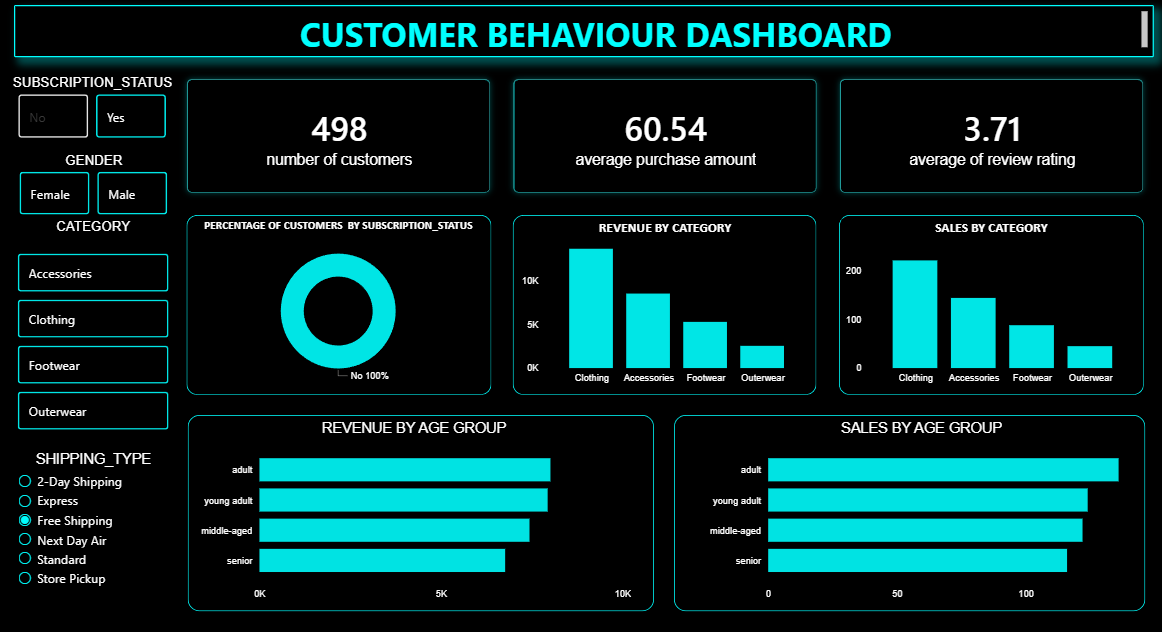

This screenshot's page, from the dashboard's own definition file:
{"tool":"powerbi","page":{"name":"Page 1","canvas":[1500,820],"ordinal":0},"visuals":[{"type":"cardVisual","fields":{"Data":["public customer.number of customers","public customer.average purchase amount","public customer.average of review rating"]},"box":[213.9,80.4,1286.5,202.6],"z":0},{"type":"textbox","box":[19.3,12.9,1466.6,67.5],"z":1000},{"type":"shape","box":[241.2,283,392.4,231.6],"z":2000},{"type":"donutChart","title":"PERCENTAGE OF CUSTOMERS  BY SUBSCRIPTION_STATUS","fields":{"Category":["public customer.subscription_status"],"Y":["CountNonNull(public customer.customer_id)"]},"box":[249.3,287.8,374.7,220.3],"z":3000},{"type":"shape","box":[660.9,283,390.8,231.6],"z":4000},{"type":"shape","box":[1080.6,283,392.4,231.6],"z":5000},{"type":"clusteredColumnChart","title":"REVENUE BY CATEGORY","fields":{"Y":["Sum(public customer.purchase_amount)"],"Category":["public customer.category"]},"box":[667.3,287.8,379.5,220.3],"z":6000},{"type":"clusteredColumnChart","title":"SALES BY CATEGORY","fields":{"Y":["CountNonNull(public customer.customer_id)"],"Category":["public customer.category"]},"box":[1083.8,287.8,385.9,220.3],"z":7000},{"type":"advancedSlicerVisual","title":"SUBSCRIPTION_STATUS","fields":{"Values":["public customer.subscription_status"]},"box":[0,102.9,241.2,86.8],"z":8000},{"type":"advancedSlicerVisual","title":"GENDER","fields":{"Values":["public customer.gender"]},"box":[1.6,202.6,241.2,85.2],"z":8001},{"type":"advancedSlicerVisual","title":"CATEGORY","fields":{"Values":["public customer.category"]},"box":[19.3,287.8,204.2,299.1],"z":8002},{"type":"listSlicer","title":"SHIPPING_TYPE","fields":{"Values":["public customer.shipping_type"]},"box":[19.3,586.9,204.2,233.2],"z":8003},{"type":"clusteredBarChart","title":"REVENUE BY AGE GROUP","fields":{"Y":["Sum(public customer.purchase_amount)"],"Category":["public customer.age_group"]},"box":[249.3,546.7,569.3,239.6],"z":8004},{"type":"clusteredBarChart","title":"SALES BY AGE GROUP","fields":{"Category":["public customer.age_group"],"Y":["CountNonNull(public customer.customer_id)"]},"box":[903.7,546.7,566,239.6],"z":8005},{"type":"shape","box":[242.8,540.3,599.8,252.5],"z":8006},{"type":"shape","box":[868.4,540.3,606.2,252.5],"z":8007}]}

Visuals, with their boxes in screenshot pixels (x1, y1, x2, y2), scaled from the page's 1500x820 canvas onto the 1162x632 screenshot:
cardVisual - public customer.number of customers x public customer.average purchase amount: 166 62 1161 218
textbox: 15 10 1151 62
shape: 187 218 491 397
"PERCENTAGE OF CUSTOMERS  BY SUBSCRIPTION_STATUS" donutChart: 193 222 483 392
shape: 512 218 815 397
shape: 837 218 1141 397
"REVENUE BY CATEGORY" clusteredColumnChart: 517 222 811 392
"SALES BY CATEGORY" clusteredColumnChart: 840 222 1139 392
"SUBSCRIPTION_STATUS" advancedSlicerVisual: 0 79 187 146
"GENDER" advancedSlicerVisual: 1 156 188 222
"CATEGORY" advancedSlicerVisual: 15 222 173 452
"SHIPPING_TYPE" listSlicer: 15 452 173 631
"REVENUE BY AGE GROUP" clusteredBarChart: 193 421 634 606
"SALES BY AGE GROUP" clusteredBarChart: 700 421 1139 606
shape: 188 416 653 611
shape: 673 416 1142 611
